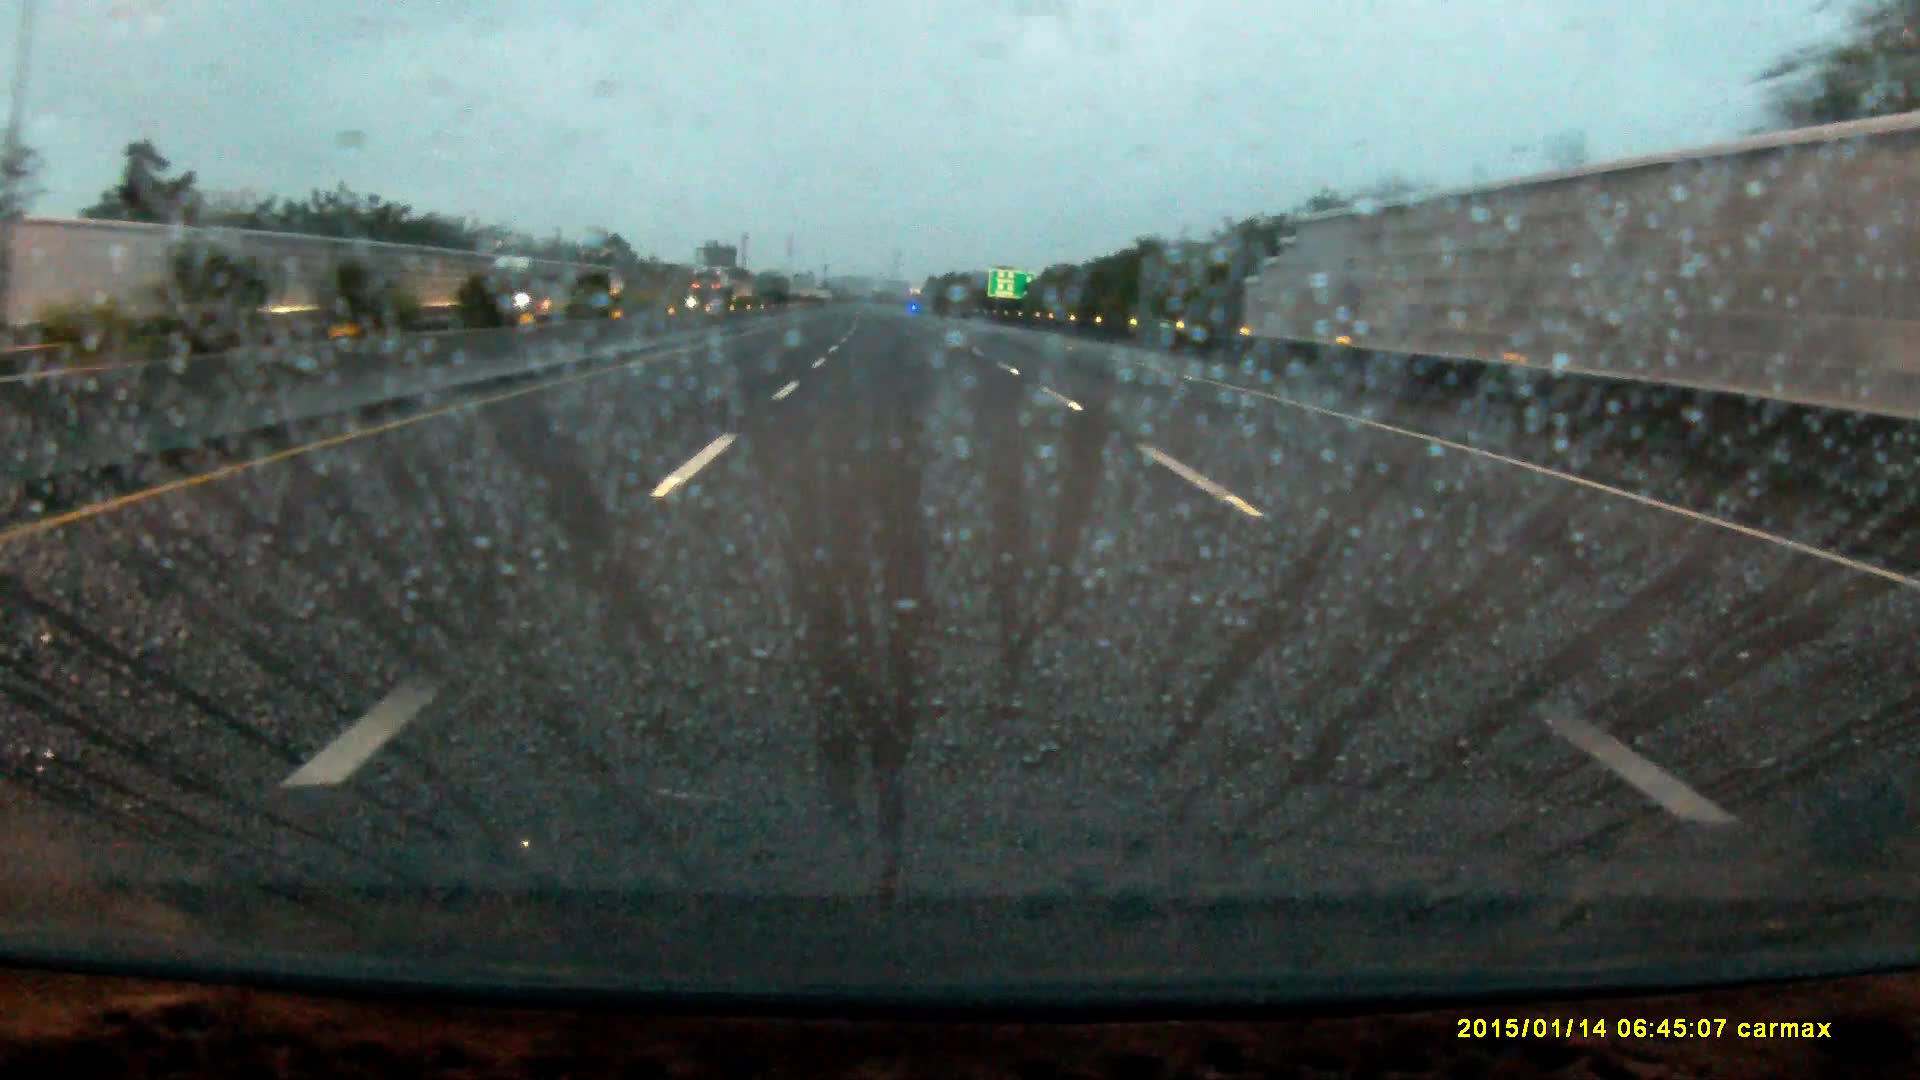vehicle: (491, 256, 574, 319), (692, 276, 735, 311)
